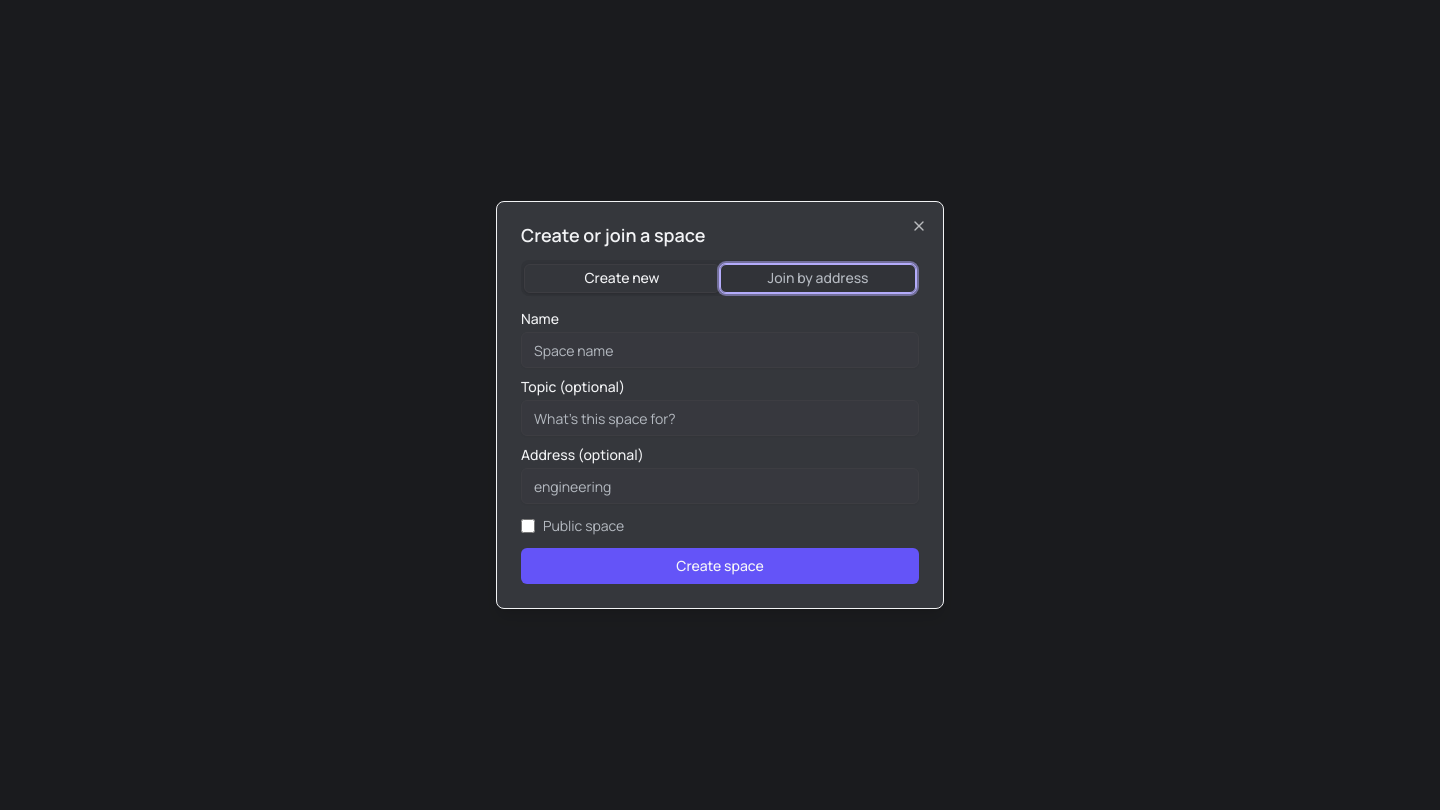
CreateJoinSpaceDialog › rejects a bare room ID instead of joining
Click the tab "Join by address" at (818, 278), box [720,264,916,292]
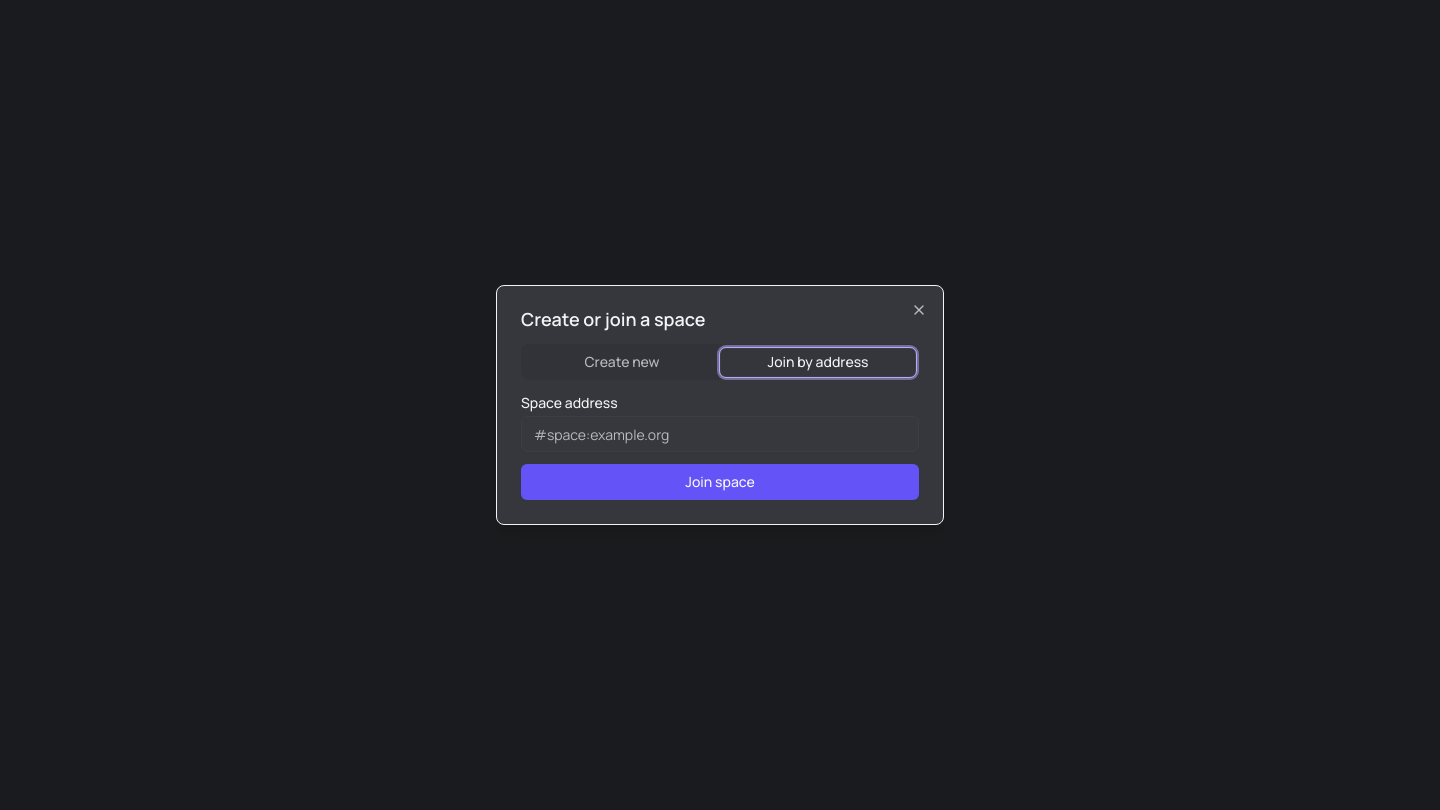
Type "!id:example.org" into the field labelled "Space address" at (720, 434), box [521,416,919,452]
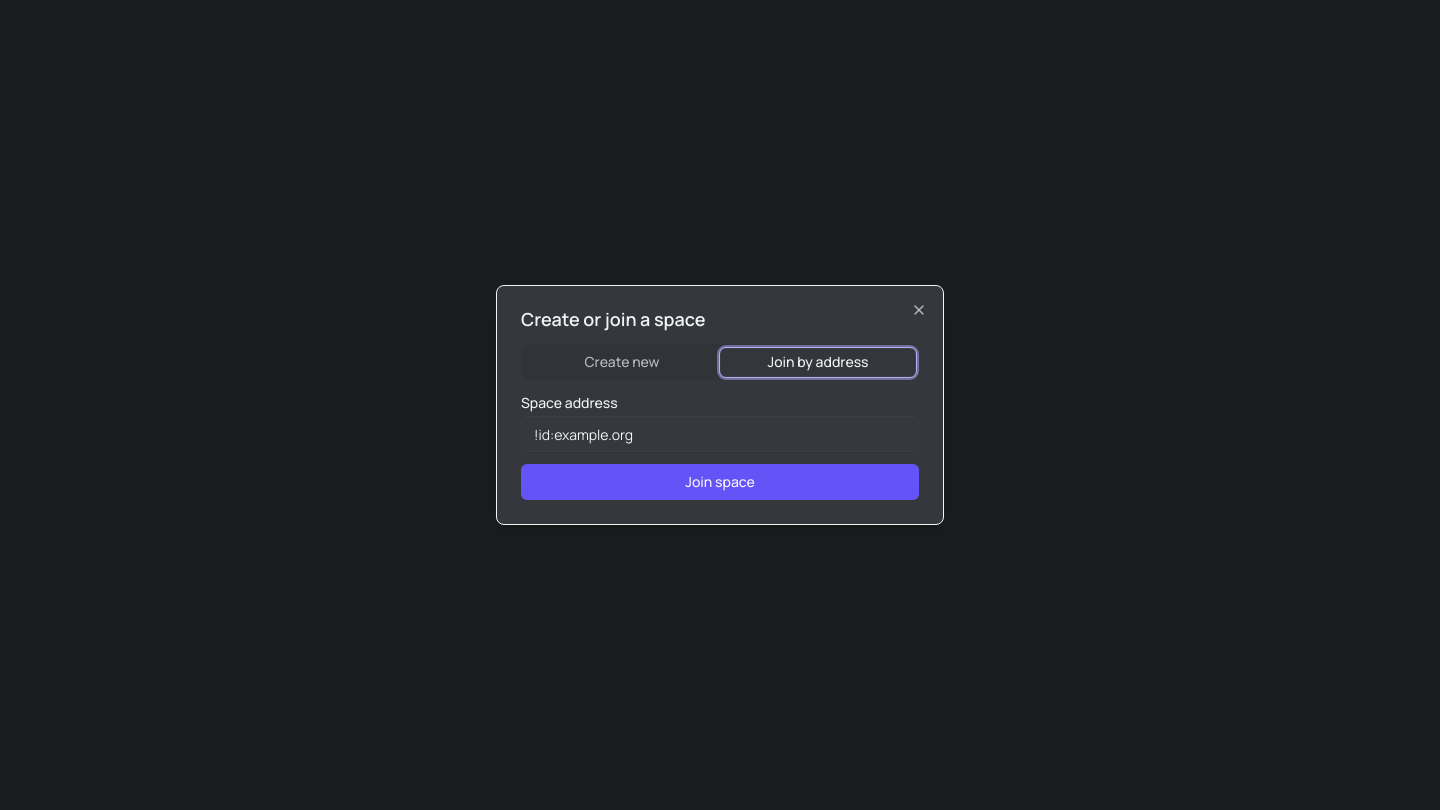
Click the button "Join space" at (720, 482), box [521,464,919,500]
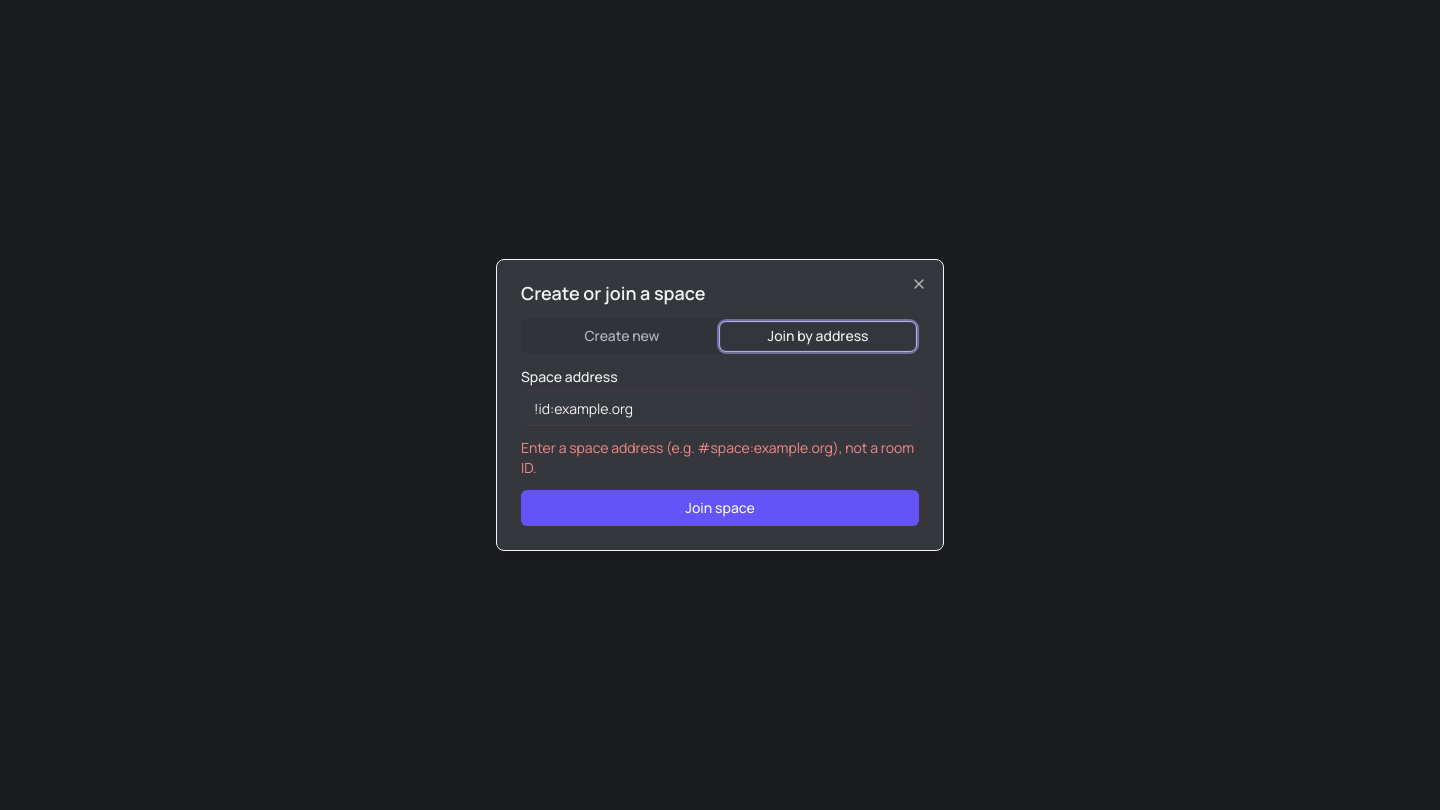
Expected: the text "Enter a space address (e.g. #space:example.org), not a room ID." is shown, [521,438,919,478]
